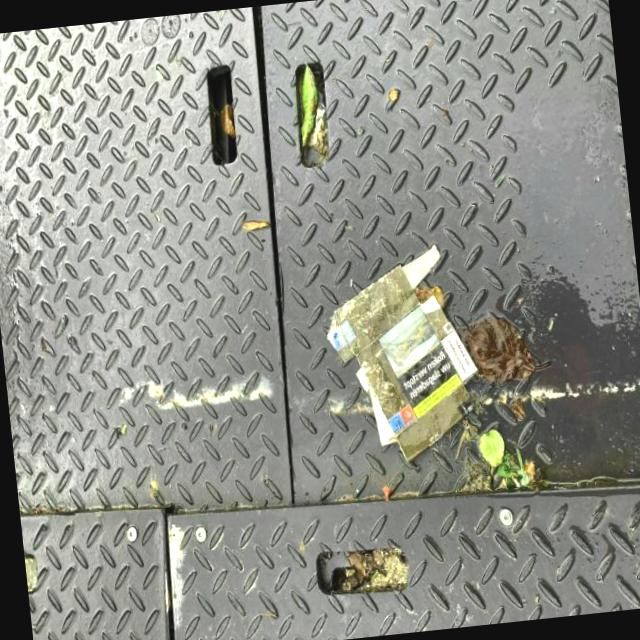Paper: (313, 236, 489, 474)
